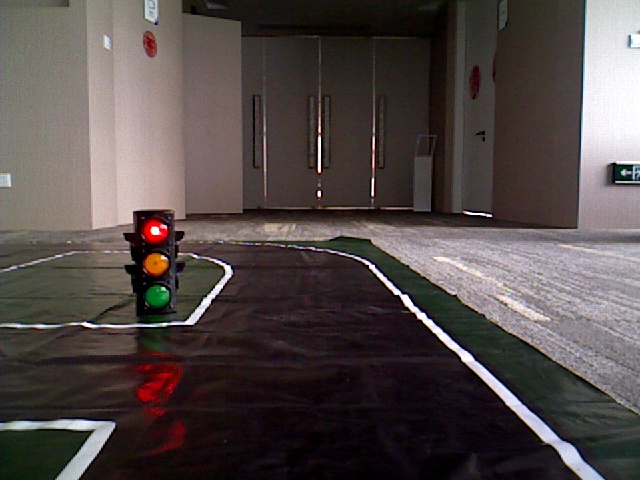red: (135, 215, 172, 308)
